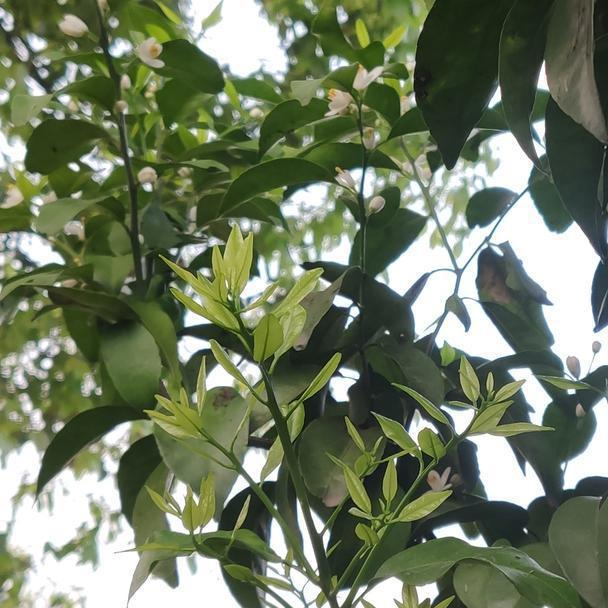shoot: (168, 226, 348, 430), (378, 370, 543, 528), (145, 366, 285, 493), (120, 485, 283, 589)
